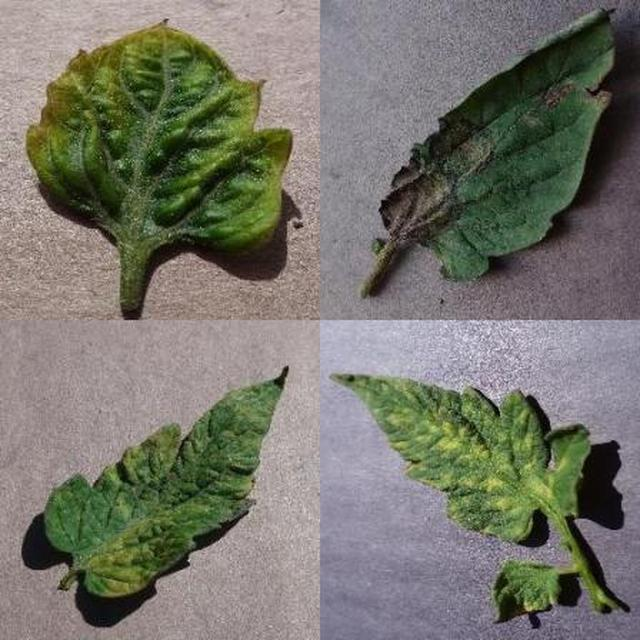Yellow Leaf Curl Virus: (228, 196, 640, 640)
